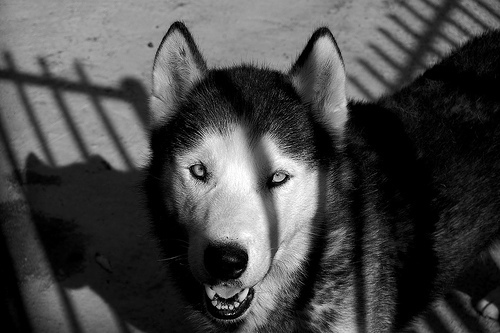dog: (132, 15, 499, 332)
